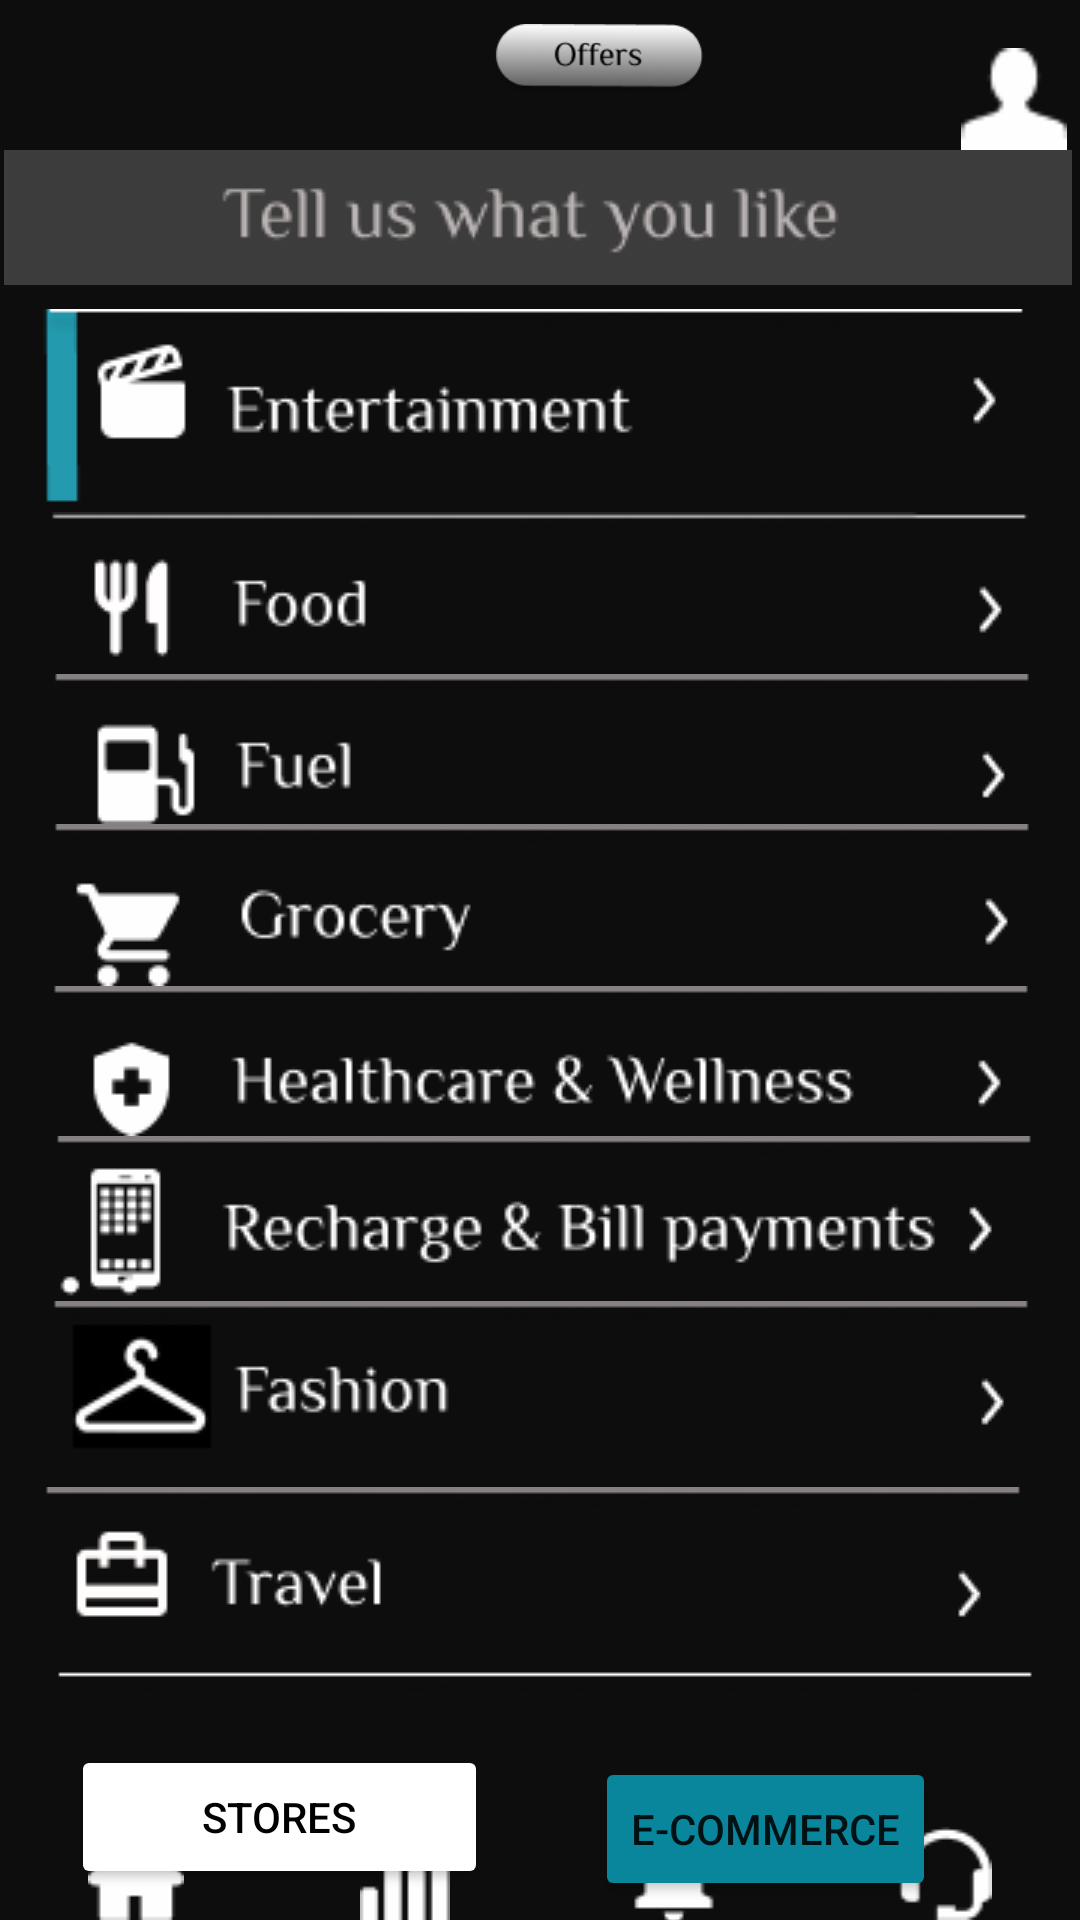

Point at icon controls on the screen. Image size 1080 × 1920, points as (x=x, y=y).
profile: (x=1014, y=99)
